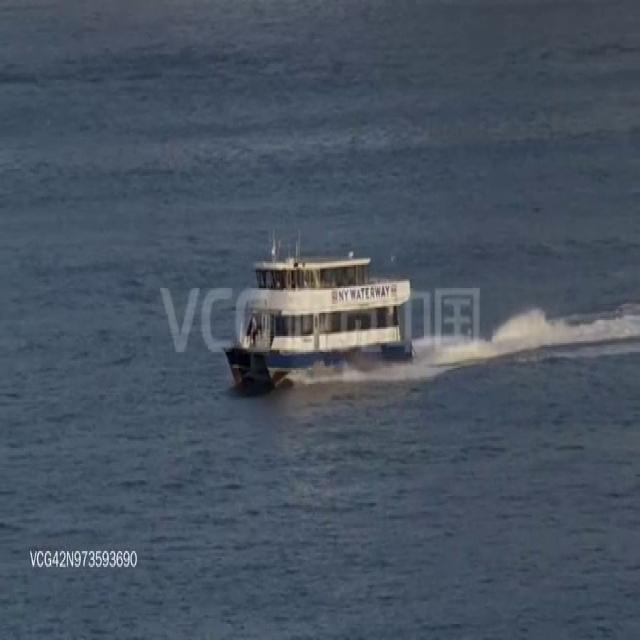passenger ship: (231, 236, 416, 383)
